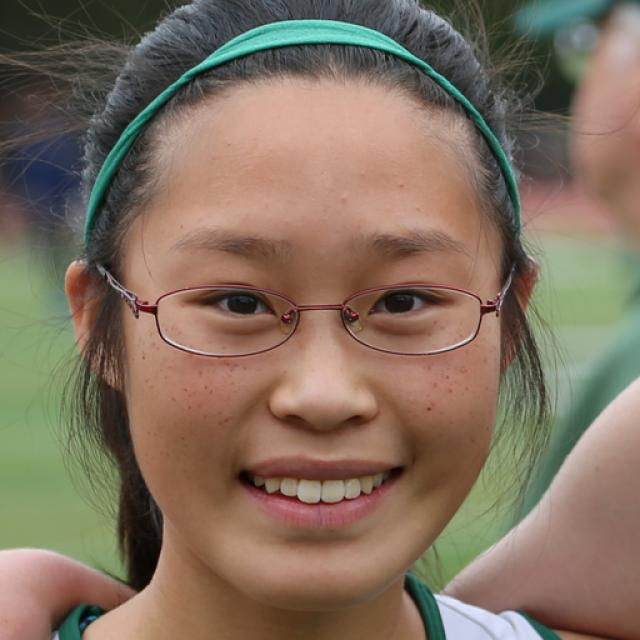Acne: (333, 191, 353, 210), (350, 167, 373, 182), (409, 203, 428, 217), (393, 177, 409, 192)
